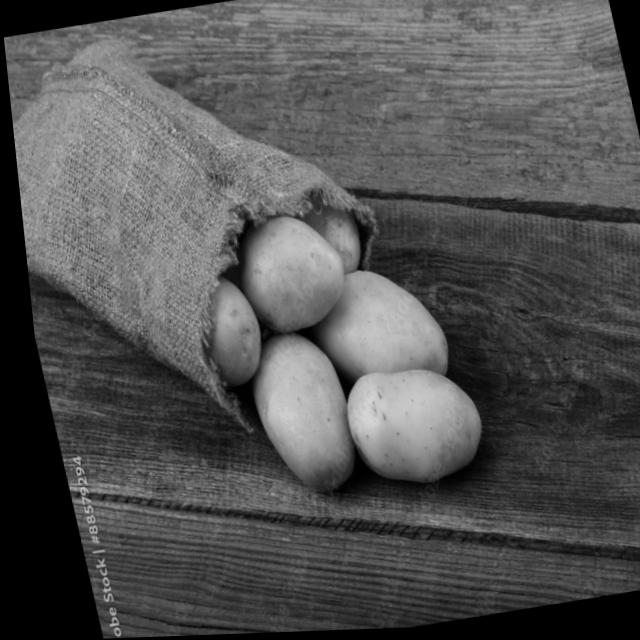sack: (1, 1, 412, 467)
